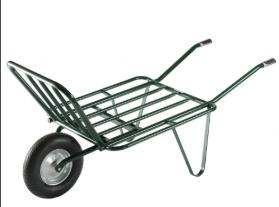BROUETTE: (0, 33, 279, 200)
